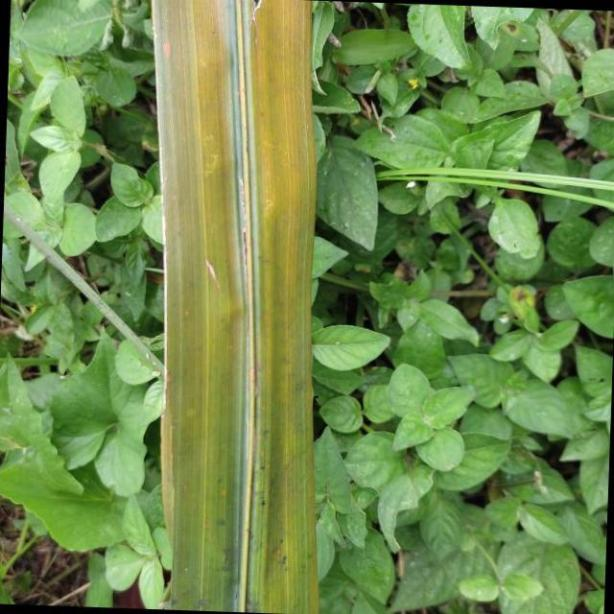Megnesium: (152, 0, 312, 614)
